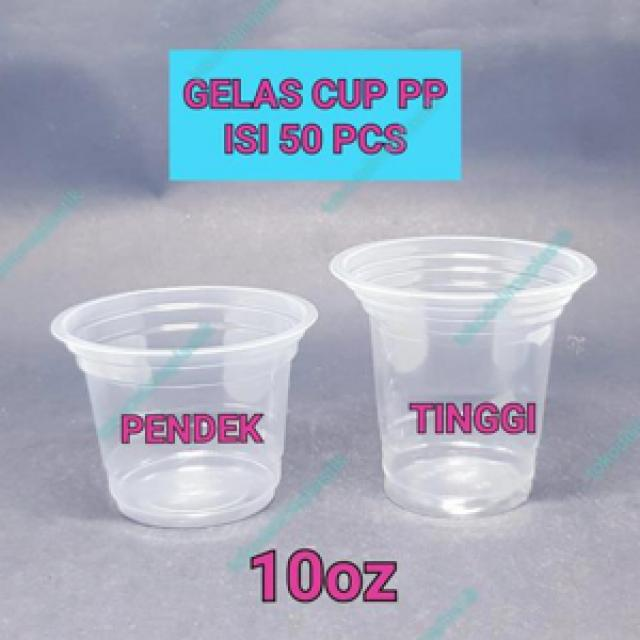plastic cup: (328, 226, 602, 525), (49, 277, 326, 534)
